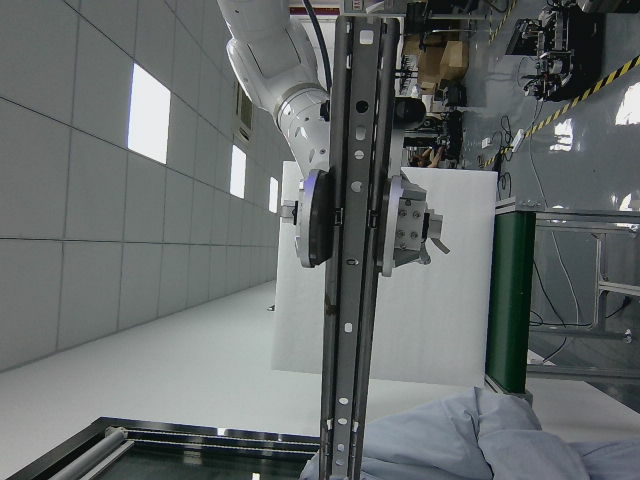left: (305, 20, 399, 476)
